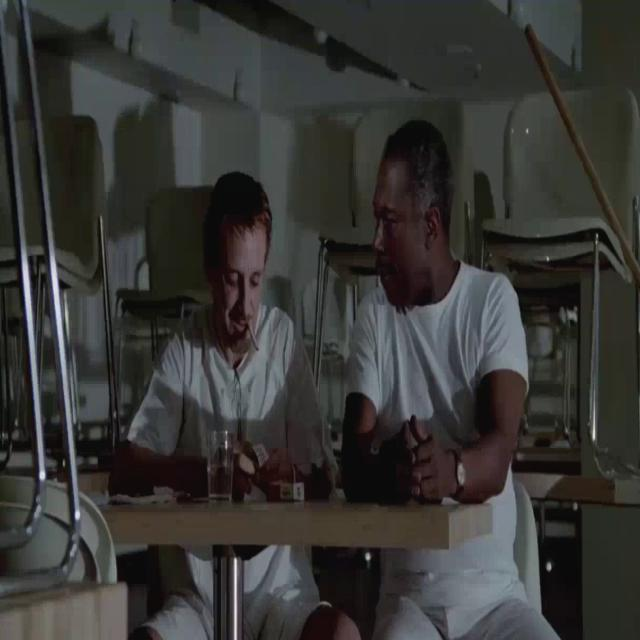Smooking: (243, 312, 264, 358)
